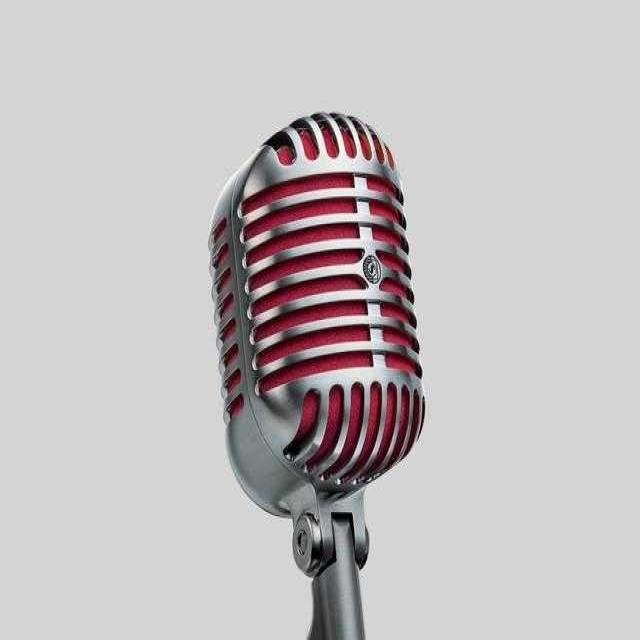microphone: (207, 114, 420, 635)
